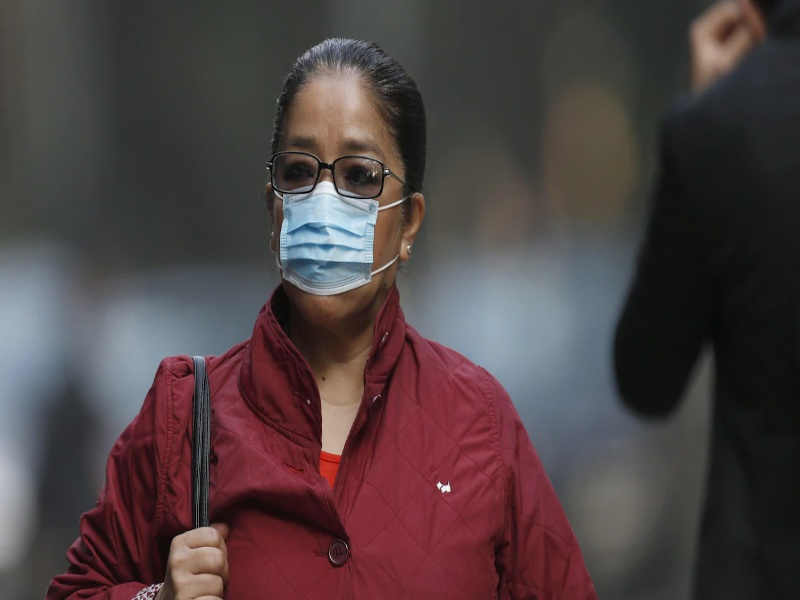ManaoArotava: (256, 52, 417, 328)
